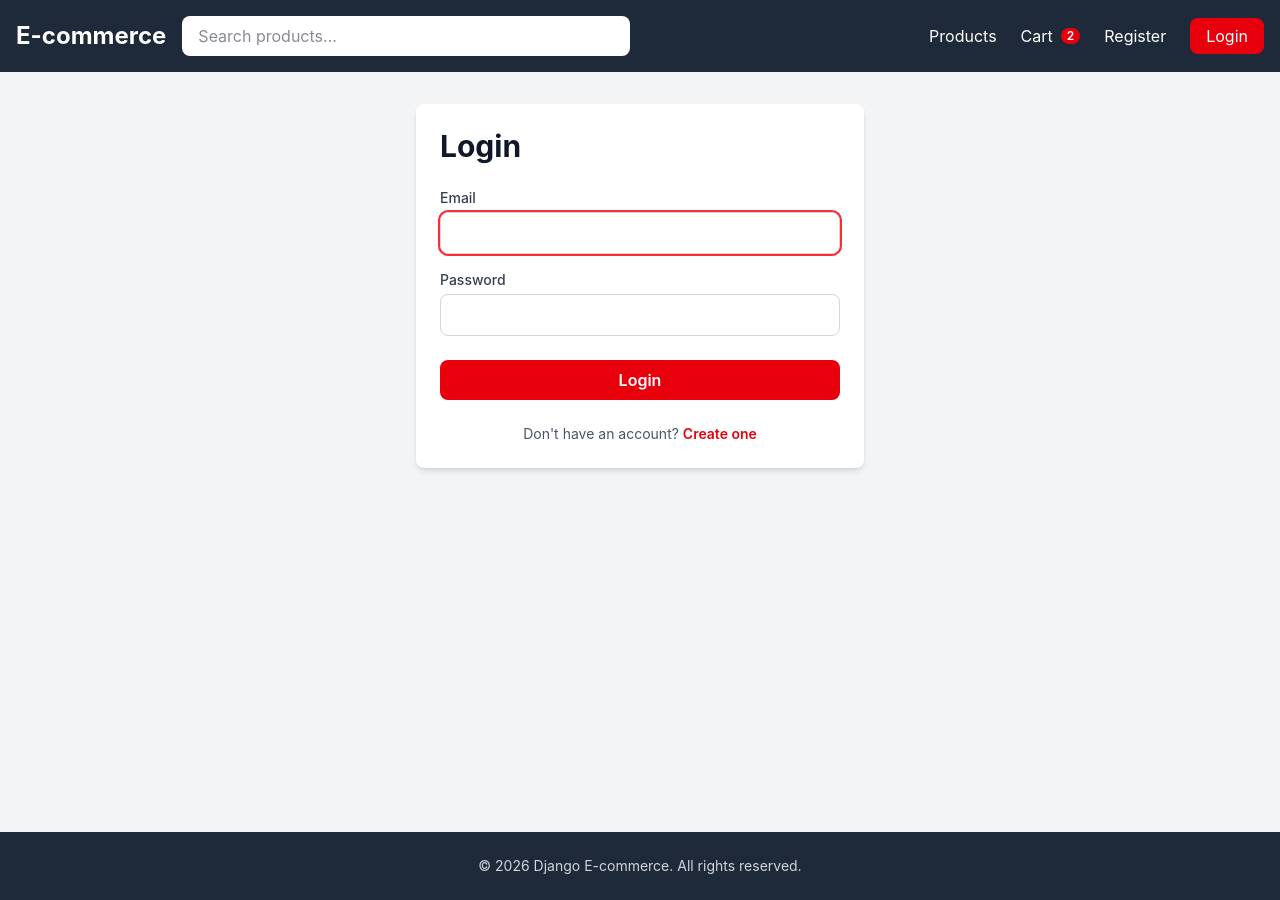
Scenario: account › shows login errors from the API
Type "ada@example.com" into the field labelled "Email" at point(640, 233), box 440,212 -> 840,254
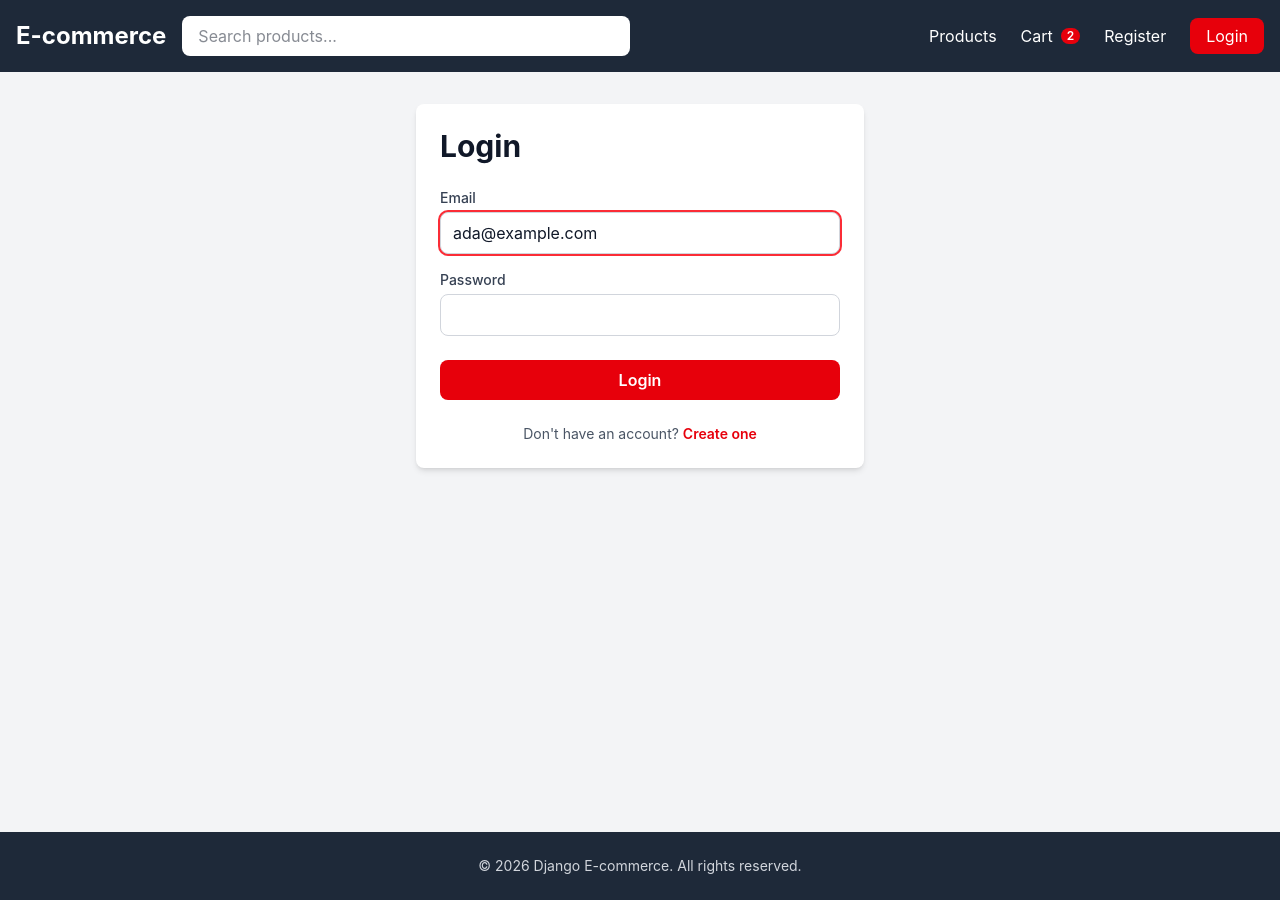
Type "wrong" into the password field labelled "Password" at point(640, 315), box 440,294 -> 840,336
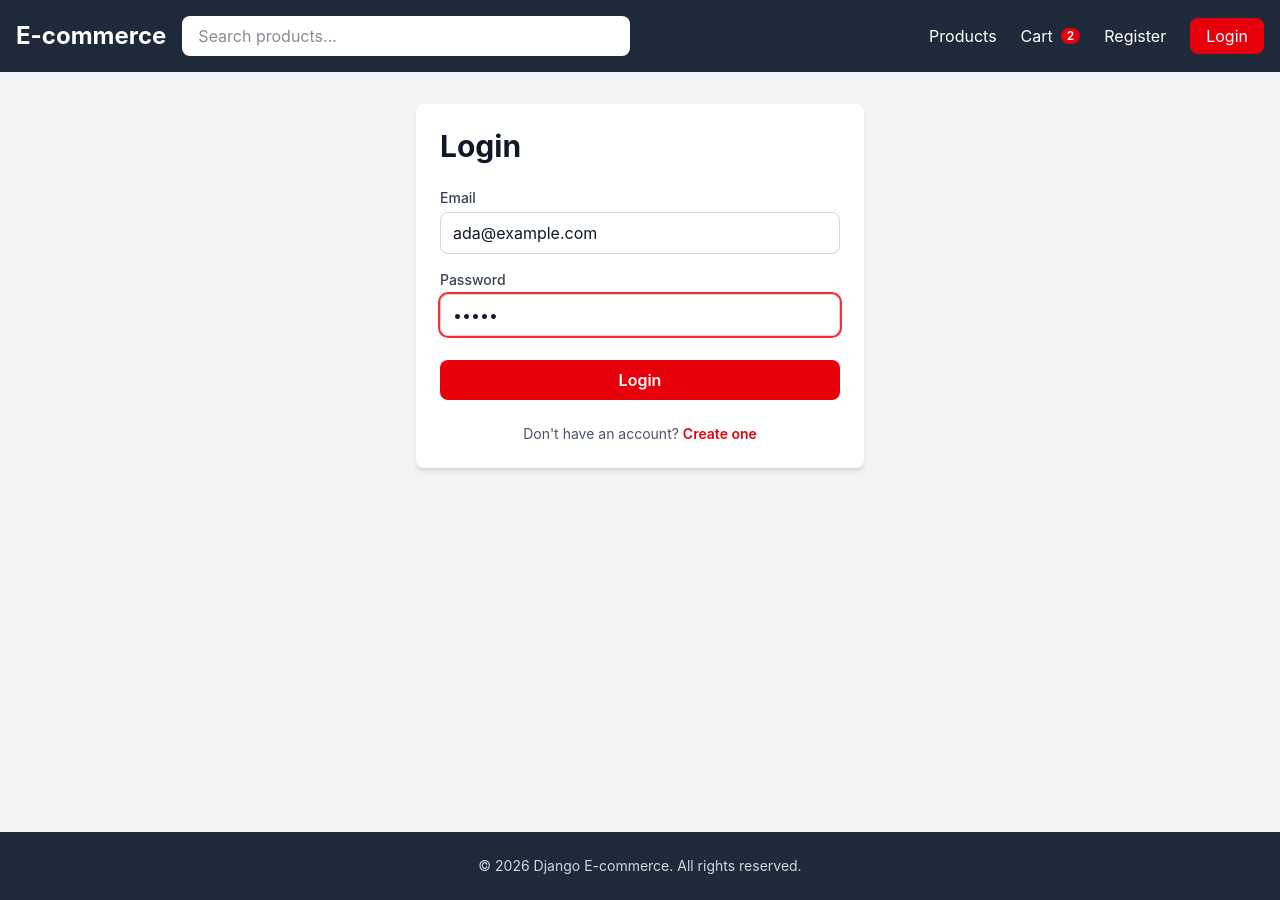
Click the button "Login" at point(640, 380), box 440,360 -> 840,400
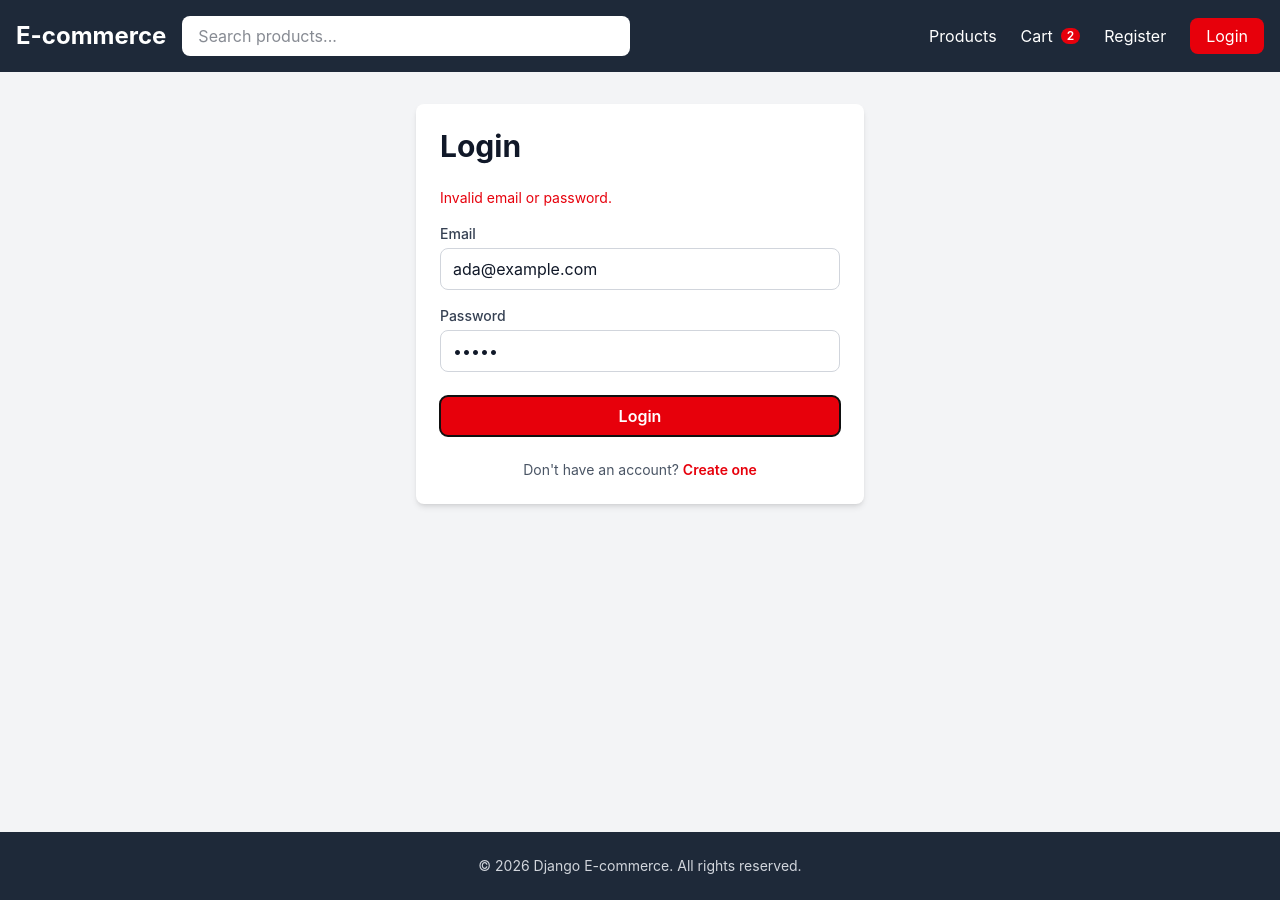
Expected: the text "Invalid email or password." is shown, 440,189 -> 612,206
